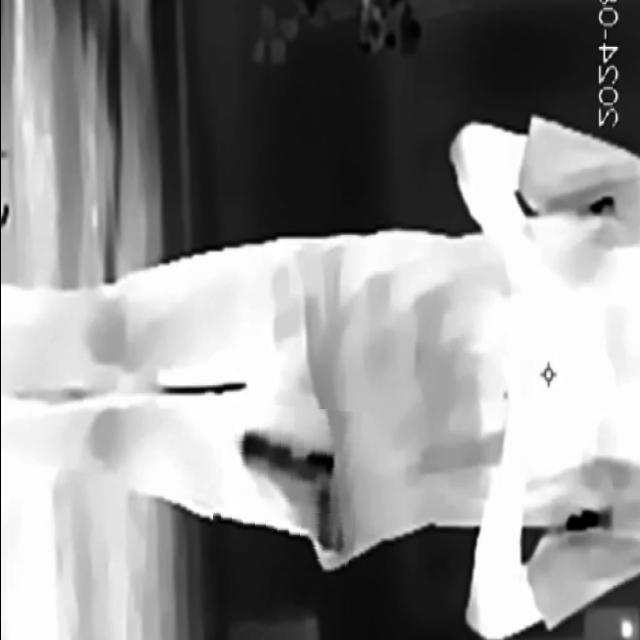Weapon: (210, 403, 358, 574)
